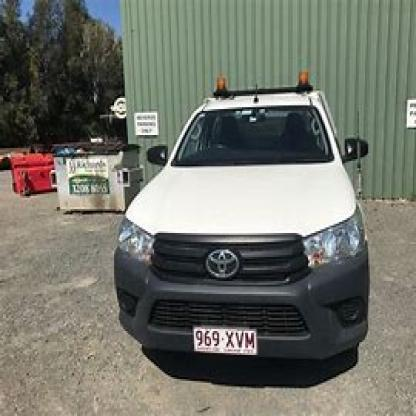light_vehicle: (105, 78, 384, 385)
